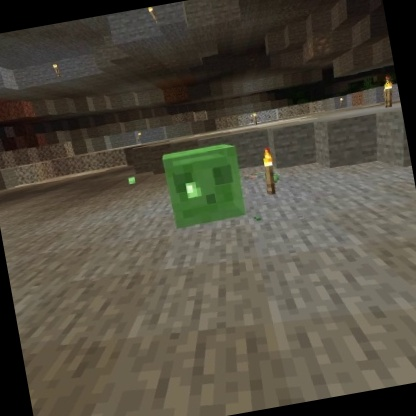slime: (158, 138, 251, 232)
